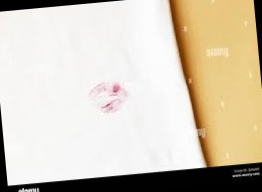lipstick: (87, 81, 127, 115)
